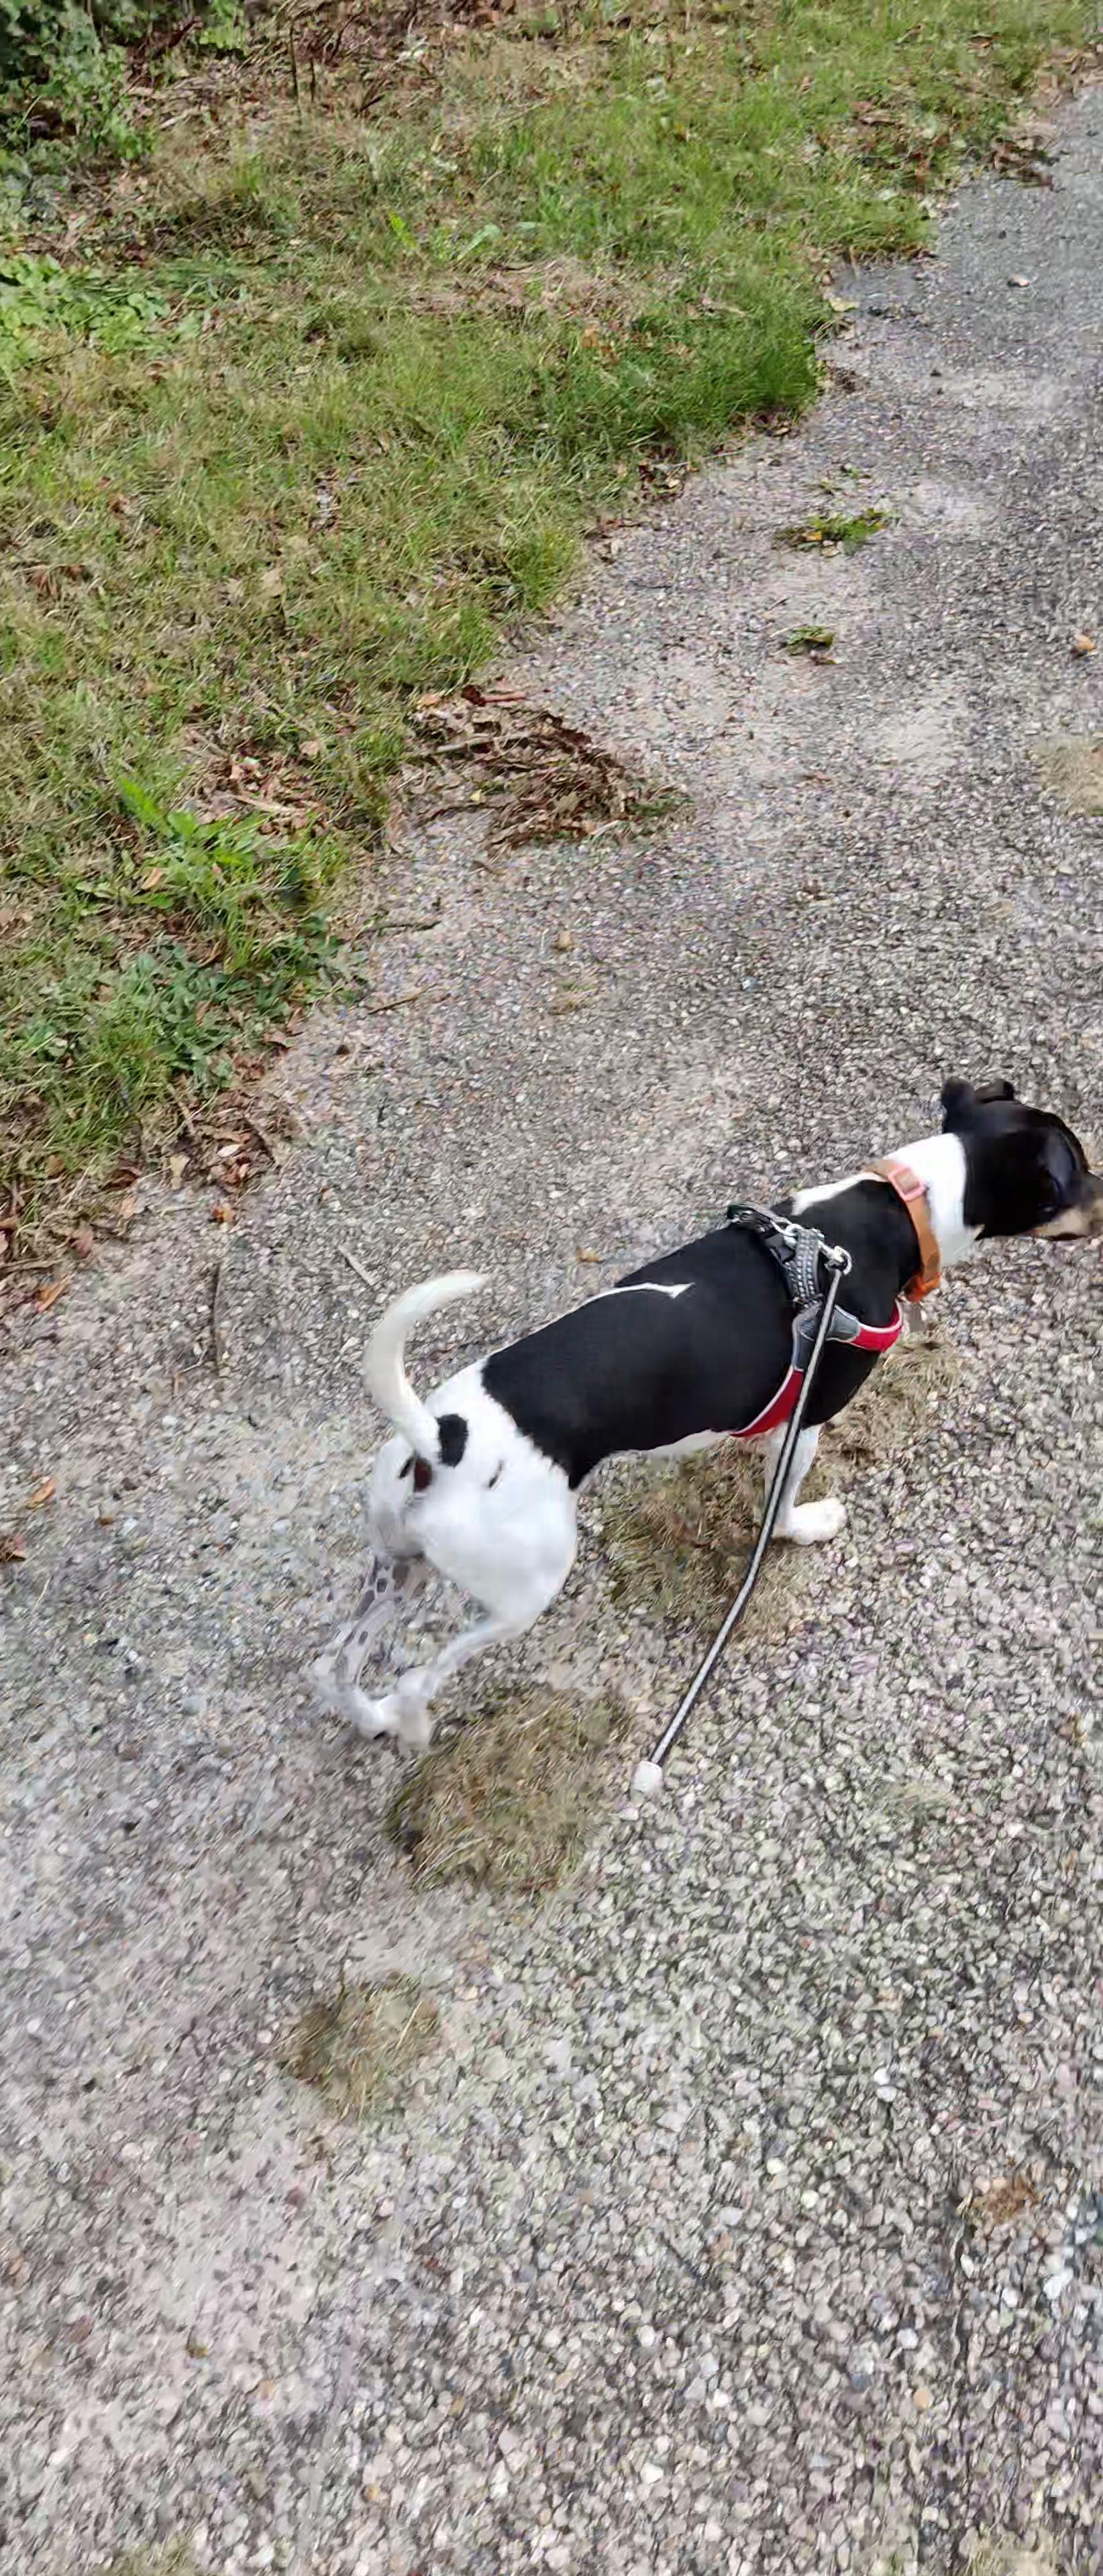Dog: (306, 1069, 1103, 1753)
